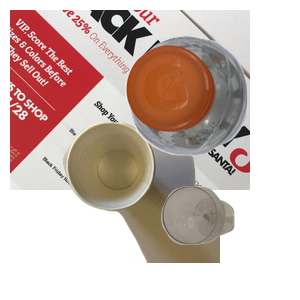glass: (159, 184, 300, 300)
paper: (10, 10, 250, 190)
plastic: (123, 33, 300, 181)
trash: (60, 120, 300, 300)
